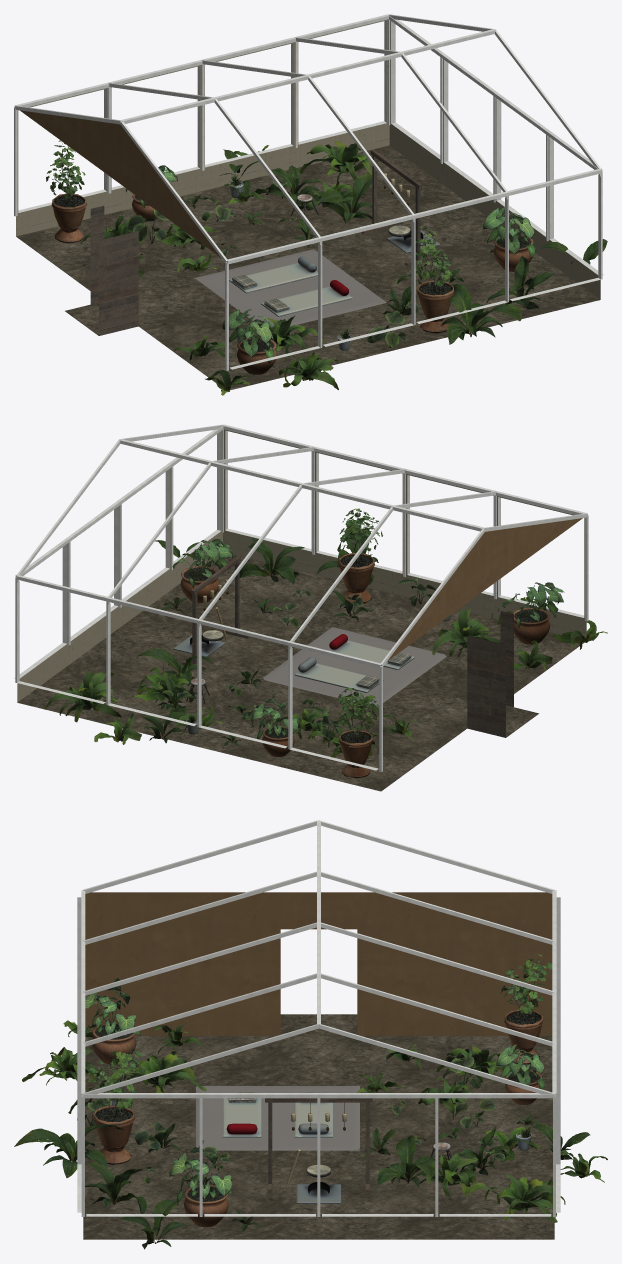
Rendered from room.gltf.
3 views of the same model, one above another, from view 1: azimuth 30°, elevation 25°; view 2: azimuth 150°, elevation 25°; view 3: azimuth 270°, elevation 25° (orthographic). The views are drawn at different scales.
Visible parts, largest first — view 1: shell_concrete_r, shell_steel, shell_concrete_w, shell_beam, shell_clay, shell_herring, prop_linen, prop_anthurium_botany_01_1.001, prop_potted_plant_02_2.001, prop_fern_02_2.002, prop_potted_plant_02_2.002, prop_fern_02_3.001 (+15 smaller); view 2: shell_concrete_r, shell_steel, shell_concrete_w, shell_clay, shell_beam, shell_herring, prop_linen, prop_fern_02_2.002, prop_anthurium_botany_01_2.001, prop_fern_02_2.001, prop_potted_plant_02_2.002, prop_potted_plant_02_2.001 (+17 smaller); view 3: shell_concrete_r, shell_clay, shell_steel, shell_herring, prop_linen, prop_fern_02_2.002, prop_anthurium_botany_01_1.001, prop_potted_plant_02_2.002, prop_fern_02_2.001, prop_anthurium_botany_01_1, shell_beam, prop_potted_plant_01_3.001 (+18 smaller).
Part boxes in pixels (x1,y1,x2,y2): shell_concrete_r: (16,145,599,390); shell_steel: (14,14,603,370); shell_concrete_w: (16,19,600,299); shell_beam: (90,149,430,335); shell_clay: (20,110,220,257); shell_herring: (195,249,386,327); prop_linen: (229,263,352,316); prop_anthurium_botany_01_1.001: (440,284,521,344); prop_potted_plant_02_2.001: (222,309,274,363); prop_fern_02_2.002: (300,140,377,181); prop_potted_plant_02_2.002: (483,207,535,258); prop_fern_02_3.001: (279,352,338,389); shell_concrete_r: (17,555,584,791); shell_steel: (14,424,588,771); shell_concrete_w: (17,429,586,702); shell_clay: (387,518,582,661); shell_beam: (182,556,513,737); shell_herring: (263,627,446,706); prop_linen: (294,640,414,692); prop_fern_02_2.002: (44,670,121,722); prop_anthurium_botany_01_2.001: (239,537,304,584); prop_fern_02_2.001: (432,608,500,656); prop_potted_plant_02_2.002: (172,538,232,587); prop_potted_plant_02_2.001: (502,582,564,627); shell_concrete_r: (83,1014,554,1239); shell_clay: (85,892,552,1035); shell_steel: (77,820,560,1216); shell_herring: (196,1086,359,1150); prop_linen: (223,1098,332,1137); prop_fern_02_2.002: (464,1174,565,1222); prop_anthurium_botany_01_1.001: (14,1124,124,1177); prop_potted_plant_02_2.002: (169,1140,232,1206); prop_fern_02_2.001: (110,1051,206,1092); prop_anthurium_botany_01_1: (377,1135,438,1187); shell_beam: (265,1098,372,1192); prop_potted_plant_01_3.001: (93,1105,135,1164).
Bounding box in the file's own units: 11.4 × 4.7 × 11.6.
Materials: 34 (34 with a texture image).
